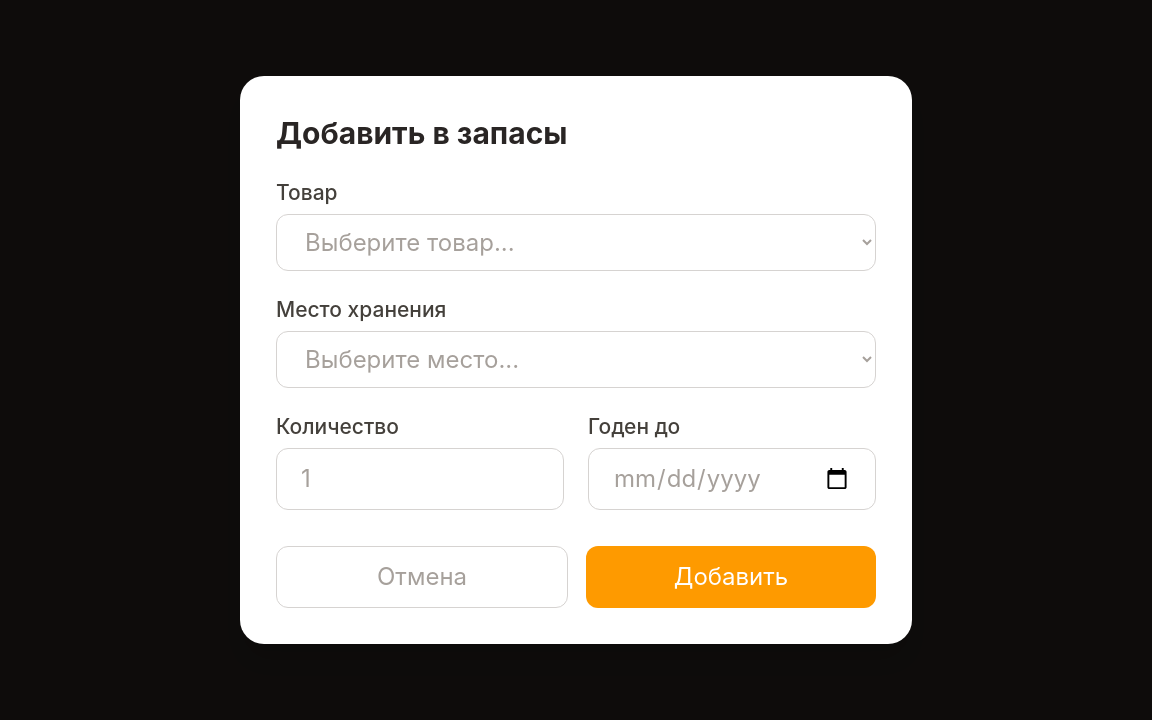
Scenario: AddStockModal › validates required fields
The width and height of the screenshot is (1152, 720).
// Try to submit without selecting product
Click the button "Добавить".
click(731, 577)  # box [586, 546, 876, 608]
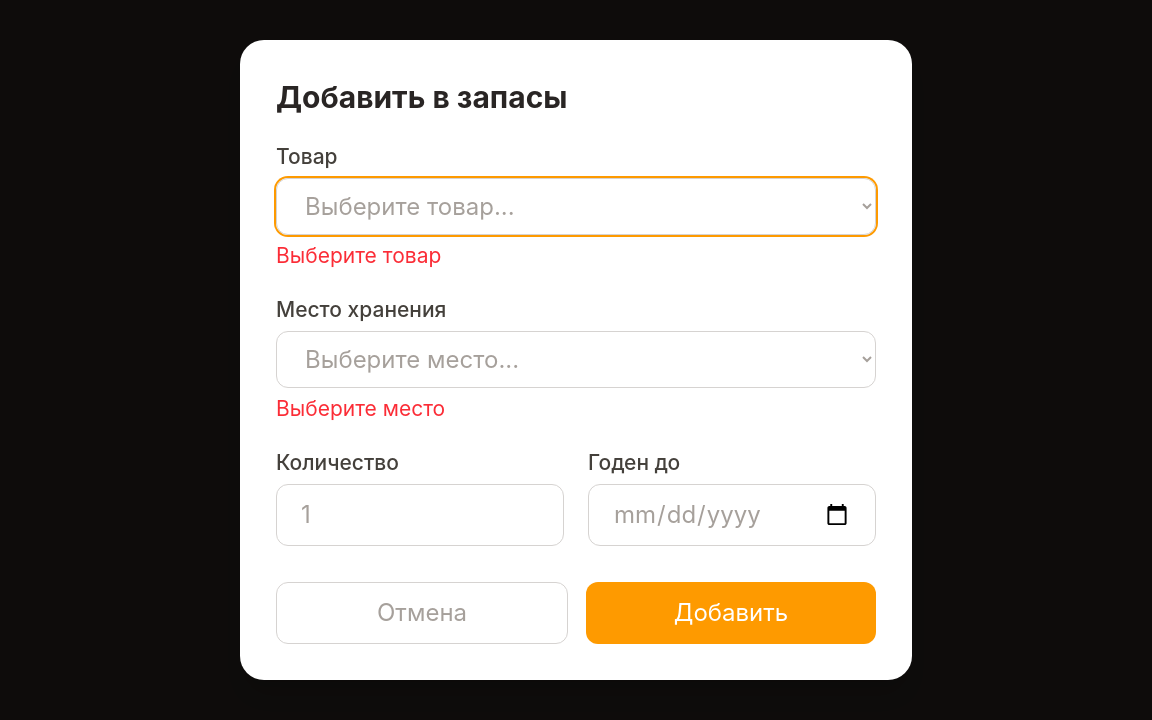
Expected: the message "Выберите товар" is shown, [276, 243, 441, 268]
